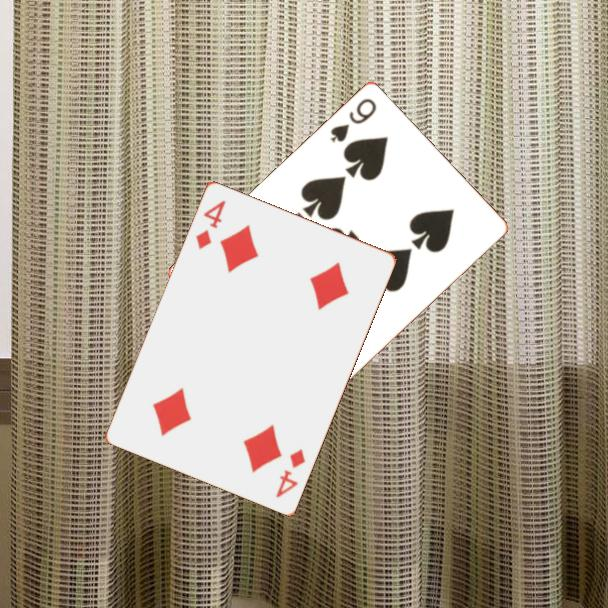d04: (192, 196, 228, 252), (272, 445, 308, 500)
s09: (327, 95, 379, 146)
